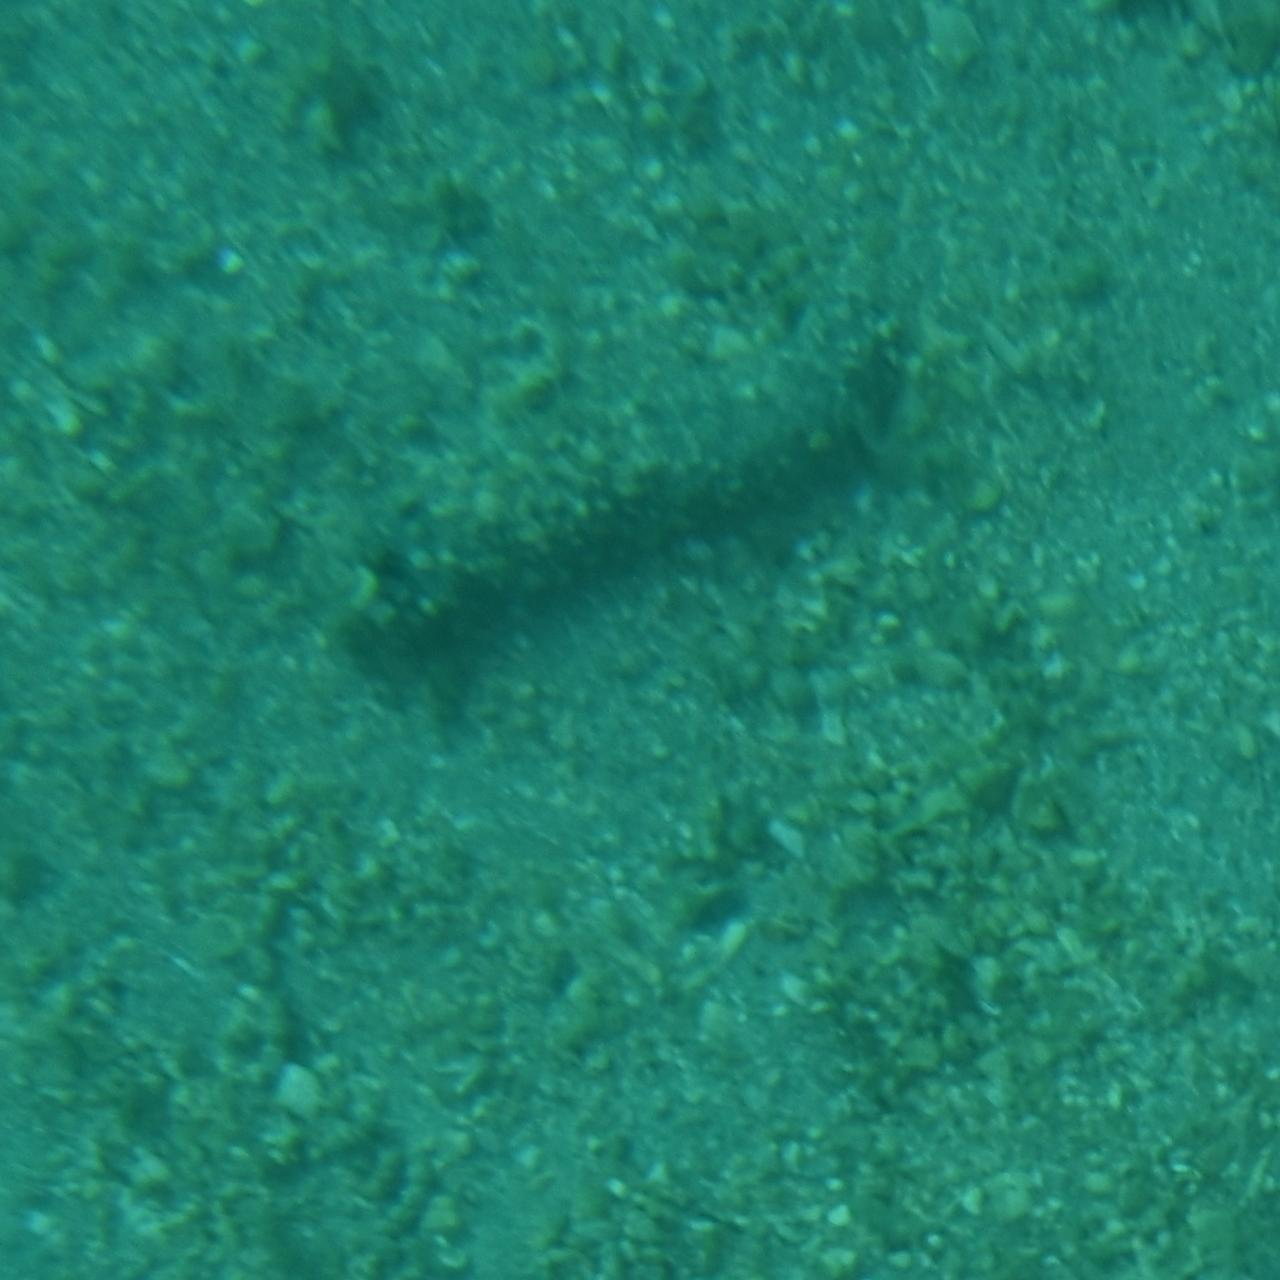Holothuria tubulosa: (331, 284, 949, 702)
